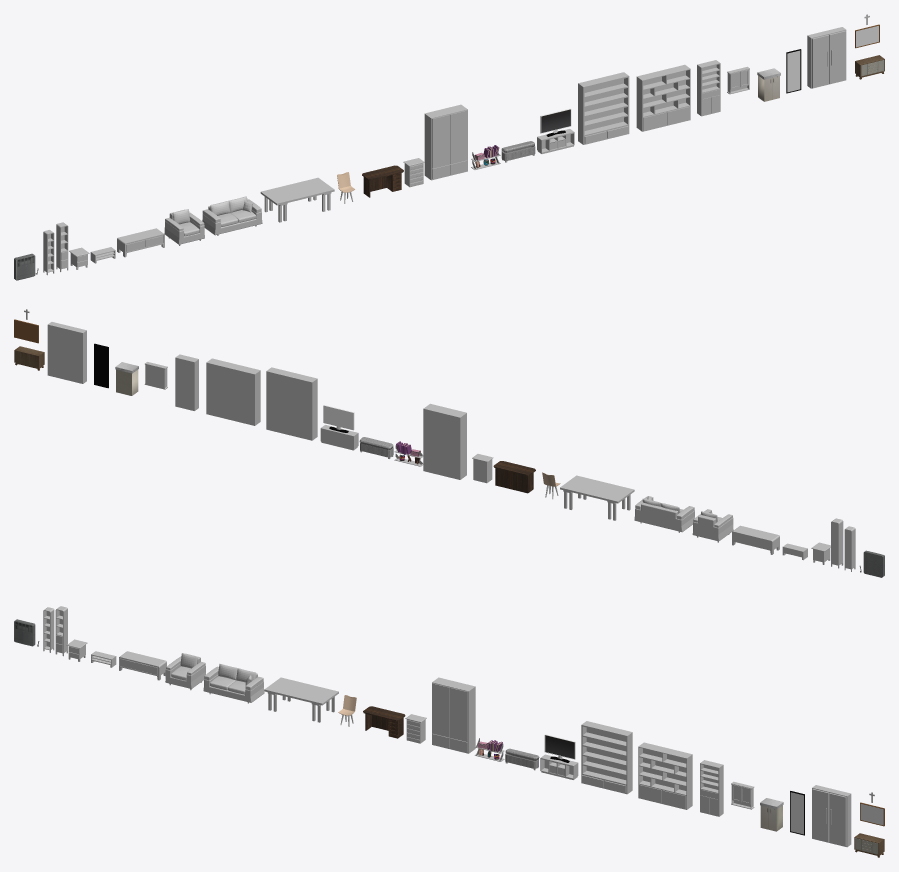
The model's file is Muebles.fbx.
3 views of the same model, one above another, from view 1: azimuth 30°, elevation 25°; view 2: azimuth 150°, elevation 25°; view 3: azimuth 330°, elevation 25° (orthographic).
Parts seen in each view (by area): view 1: Librero 1, Librero 2, Armario, Mueble Baño, Sillon Largo, Mesa, Librero 3, Sillon Chico, Escritorio, Mesa Ratona 2, Mueble limpieza, Televisor (+6 smaller); view 2: Librero 1, Librero 2, Armario, Mueble Baño, Mesa, Sillon Largo, Librero 3, Escritorio, Sillon Chico, Mesa Ratona 2, Mueble limpieza, Estante Televisor (+7 smaller); view 3: Librero 1, Librero 2, Armario, Mueble Baño, Sillon Largo, Mesa, Librero 3, Sillon Chico, Escritorio, Mesa Ratona 2, Mueble limpieza, Estante Televisor (+9 smaller).
Boxes of the visible parts, x1,y1,x2,y2 form: Librero 1: (578, 72, 629, 144); Librero 2: (636, 64, 690, 131); Armario: (424, 104, 467, 180); Mueble Baño: (807, 27, 846, 88); Sillon Largo: (202, 196, 262, 235); Mesa: (260, 177, 334, 222); Librero 3: (697, 60, 720, 116); Sillon Chico: (164, 209, 204, 245); Escritorio: (362, 165, 403, 197); Mesa Ratona 2: (117, 228, 164, 257); Mueble limpieza: (757, 68, 780, 101); Televisor: (540, 108, 571, 136); Librero 1: (266, 367, 317, 440); Librero 2: (206, 358, 260, 425); Armario: (423, 403, 466, 479); Mueble Baño: (47, 322, 86, 383); Mesa: (560, 475, 634, 520); Sillon Largo: (634, 496, 694, 532); Librero 3: (175, 354, 198, 410); Escritorio: (493, 461, 535, 493); Sillon Chico: (692, 509, 733, 542); Mesa Ratona 2: (732, 525, 779, 554); Mueble limpieza: (115, 362, 138, 395); Estante Televisor: (320, 425, 358, 450); Librero 1: (581, 721, 632, 794); Librero 2: (638, 742, 692, 809); Armario: (432, 677, 475, 753); Mueble Baño: (812, 785, 851, 847); Sillon Largo: (203, 664, 264, 703); Mesa: (264, 677, 338, 722); Librero 3: (700, 760, 723, 816); Sillon Chico: (165, 653, 205, 690); Escritorio: (363, 706, 405, 738); Mesa Ratona 2: (119, 651, 166, 680); Mueble limpieza: (760, 798, 783, 831); Estante Televisor: (540, 754, 578, 779).
Bounding box in the file's own units: 71.44 × 4.93 × 2.39.
